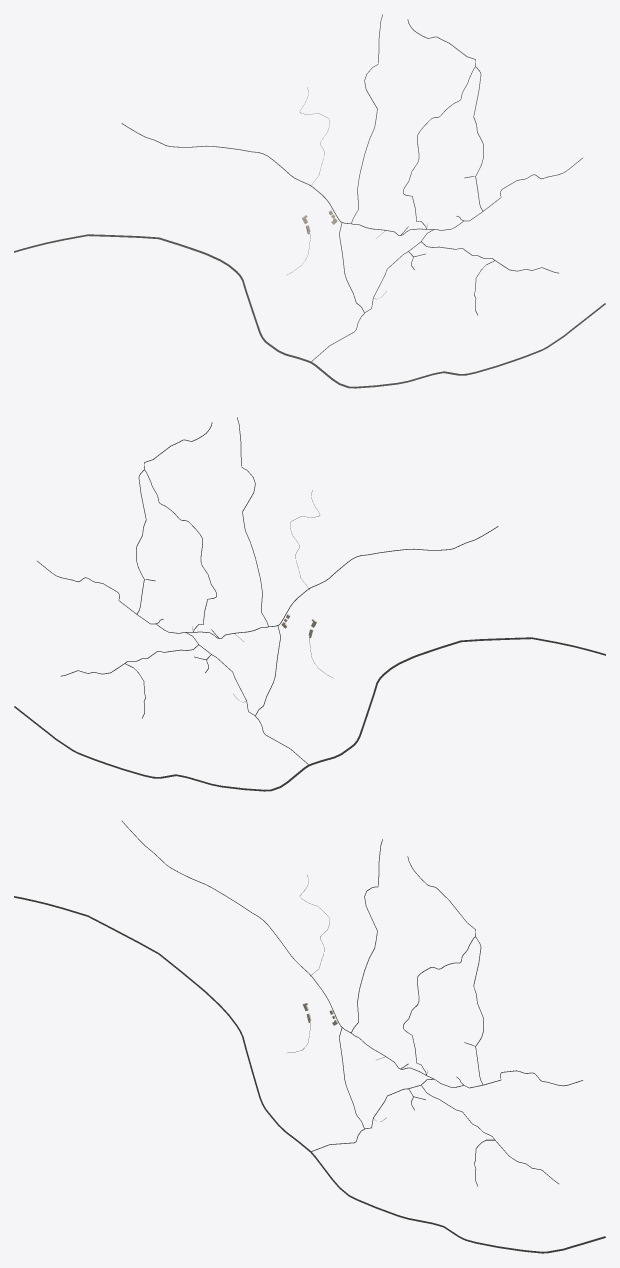
Rendered from historic-palestine-08_20_3495_3141.glb.
The picture shows the model from 3 angles, top to bottom: view 1: azimuth 30°, elevation 25°; view 2: azimuth 150°, elevation 25°; view 3: azimuth 330°, elevation 25°; orthographic projection.
Visible parts, largest first — view 1: Road .005; view 2: Road .005; view 3: Road .005.
Boxes of the visible parts, box(x1,y1,x2,y2) form: Road .005: box(14, 234, 605, 388); Road .005: box(14, 637, 605, 791); Road .005: box(14, 896, 605, 1253).
Size of the model in its own units: 2800 by 1726 by 8.7.
